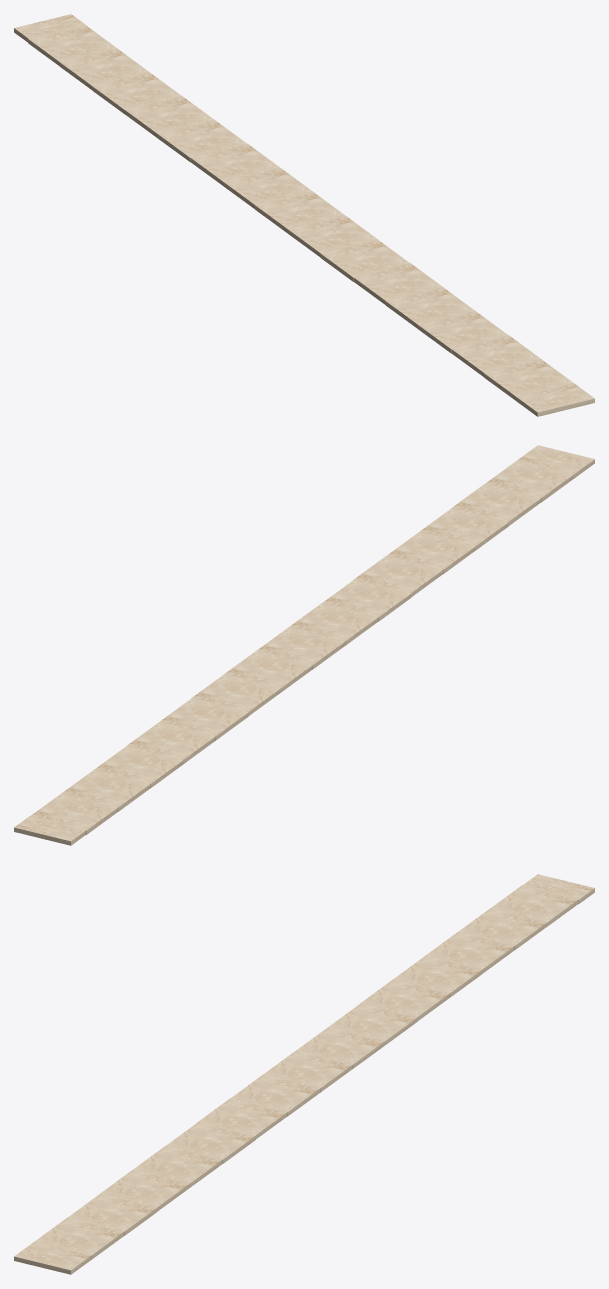
The model's file is extraFloor.obj.
3 views of the same model, one above another, from view 1: azimuth 30°, elevation 25°; view 2: azimuth 150°, elevation 25°; view 3: azimuth 330°, elevation 25° (orthographic).
Visible parts, largest first — view 1: pasted__pasted__pasted__pasted__pasted__pasted__pasted__pasted__, frontGlass:pasted__pasted__pasted__pasted__pasted__pasted__paste, frontGlass:group30pasted__pasted__pasted__pasted__pasted__pasted, frontGlass:pasted__pasted__group27pasted__group28group30pasted__, frontGlass:group81pasted__pasted__pasted__pasted__pasted__pasted, frontGlass:group76pasted__pasted__pasted__pasted__pasted__pasted; view 2: pasted__pasted__pasted__pasted__pasted__pasted__pasted__pasted__, frontGlass:pasted__pasted__pasted__pasted__pasted__pasted__paste, frontGlass:group30pasted__pasted__pasted__pasted__pasted__pasted, frontGlass:pasted__pasted__group27pasted__group28group30pasted__, frontGlass:group81pasted__pasted__pasted__pasted__pasted__pasted, frontGlass:group76pasted__pasted__pasted__pasted__pasted__pasted; view 3: pasted__pasted__pasted__pasted__pasted__pasted__pasted__pasted__, frontGlass:pasted__pasted__pasted__pasted__pasted__pasted__paste, frontGlass:group30pasted__pasted__pasted__pasted__pasted__pasted, frontGlass:pasted__pasted__group27pasted__group28group30pasted__, frontGlass:group81pasted__pasted__pasted__pasted__pasted__pasted, frontGlass:group76pasted__pasted__pasted__pasted__pasted__pasted.
Part boxes in pixels (x1,y1,x2,y2): pasted__pasted__pasted__pasted__pasted__pasted__pasted__pasted__: (28, 26, 594, 415); frontGlass:pasted__pasted__pasted__pasted__pasted__pasted__paste: (14, 14, 594, 416); frontGlass:group30pasted__pasted__pasted__pasted__pasted__pasted: (451, 335, 573, 400); frontGlass:pasted__pasted__group27pasted__group28group30pasted__: (288, 215, 377, 257); frontGlass:group81pasted__pasted__pasted__pasted__pasted__pasted: (385, 287, 475, 328); frontGlass:group76pasted__pasted__pasted__pasted__pasted__pasted: (157, 120, 246, 162); pasted__pasted__pasted__pasted__pasted__pasted__pasted__pasted__: (29, 446, 593, 834); frontGlass:pasted__pasted__pasted__pasted__pasted__pasted__paste: (14, 445, 594, 845); frontGlass:group30pasted__pasted__pasted__pasted__pasted__pasted: (451, 460, 573, 525); frontGlass:pasted__pasted__group27pasted__group28group30pasted__: (289, 603, 378, 645); frontGlass:group81pasted__pasted__pasted__pasted__pasted__pasted: (386, 532, 475, 574); frontGlass:group76pasted__pasted__pasted__pasted__pasted__pasted: (159, 698, 248, 740); pasted__pasted__pasted__pasted__pasted__pasted__pasted__pasted__: (14, 885, 578, 1274); frontGlass:pasted__pasted__pasted__pasted__pasted__pasted__paste: (14, 874, 594, 1274); frontGlass:group30pasted__pasted__pasted__pasted__pasted__pasted: (35, 1193, 157, 1259); frontGlass:pasted__pasted__group27pasted__group28group30pasted__: (231, 1074, 320, 1116); frontGlass:group81pasted__pasted__pasted__pasted__pasted__pasted: (133, 1145, 222, 1187); frontGlass:group76pasted__pasted__pasted__pasted__pasted__pasted: (360, 979, 449, 1020).
Bounding box in the file's own units: 1.02 × 0.0735 × 15.86.
28 materials, 28 textured.
